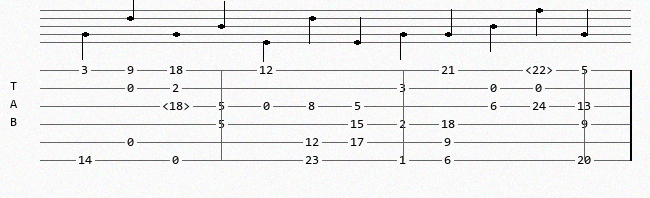0: (127, 82, 138, 94), (127, 136, 138, 148), (172, 154, 183, 166), (263, 100, 274, 112), (490, 82, 501, 94), (535, 82, 546, 94)
1: (399, 154, 410, 166)
12: (259, 64, 277, 76), (305, 136, 323, 148)
13: (577, 100, 595, 112)
14: (78, 154, 96, 166)
15: (350, 118, 368, 130)
17: (350, 136, 368, 148)
18: (169, 64, 187, 76), (441, 118, 459, 130)
2: (172, 82, 183, 94), (399, 118, 410, 130)
20: (577, 154, 595, 166)
21: (441, 64, 459, 76)
23: (305, 154, 323, 166)
24: (532, 100, 550, 112)
3: (81, 64, 92, 76), (399, 82, 410, 94)
5: (218, 100, 229, 112), (218, 118, 229, 130), (354, 100, 365, 112), (581, 64, 592, 76)
6: (444, 154, 455, 166), (490, 100, 501, 112)
8: (308, 100, 319, 112)
9: (127, 64, 138, 76), (444, 136, 455, 148), (581, 118, 592, 130)
harmonic: (162, 100, 194, 112), (525, 64, 557, 76)
